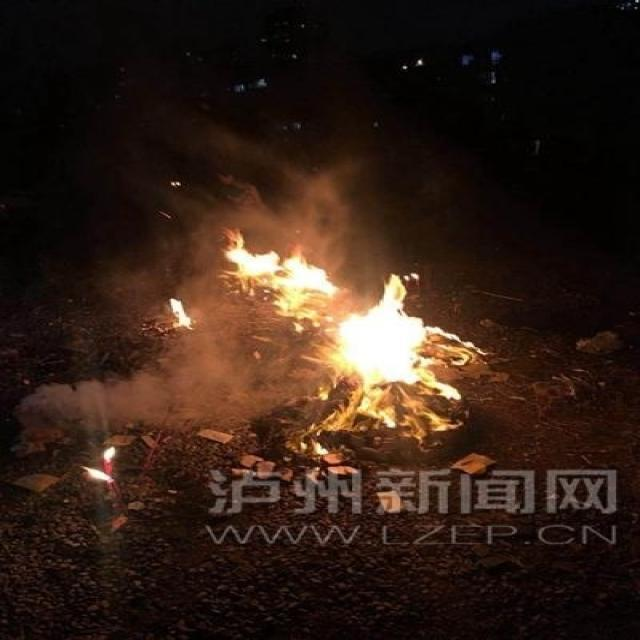Fire: (219, 224, 493, 456), (82, 446, 120, 482), (163, 298, 197, 329)
Smoke: (16, 126, 394, 428)
